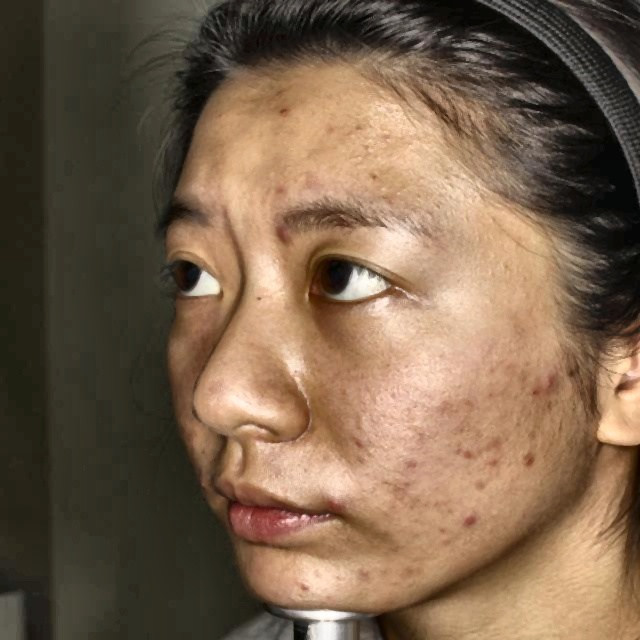pustule: (324, 486, 364, 525), (452, 509, 488, 539), (517, 450, 547, 480), (536, 362, 560, 392), (453, 439, 479, 465), (478, 425, 500, 455), (267, 224, 290, 252), (475, 472, 497, 499), (296, 576, 318, 600)
